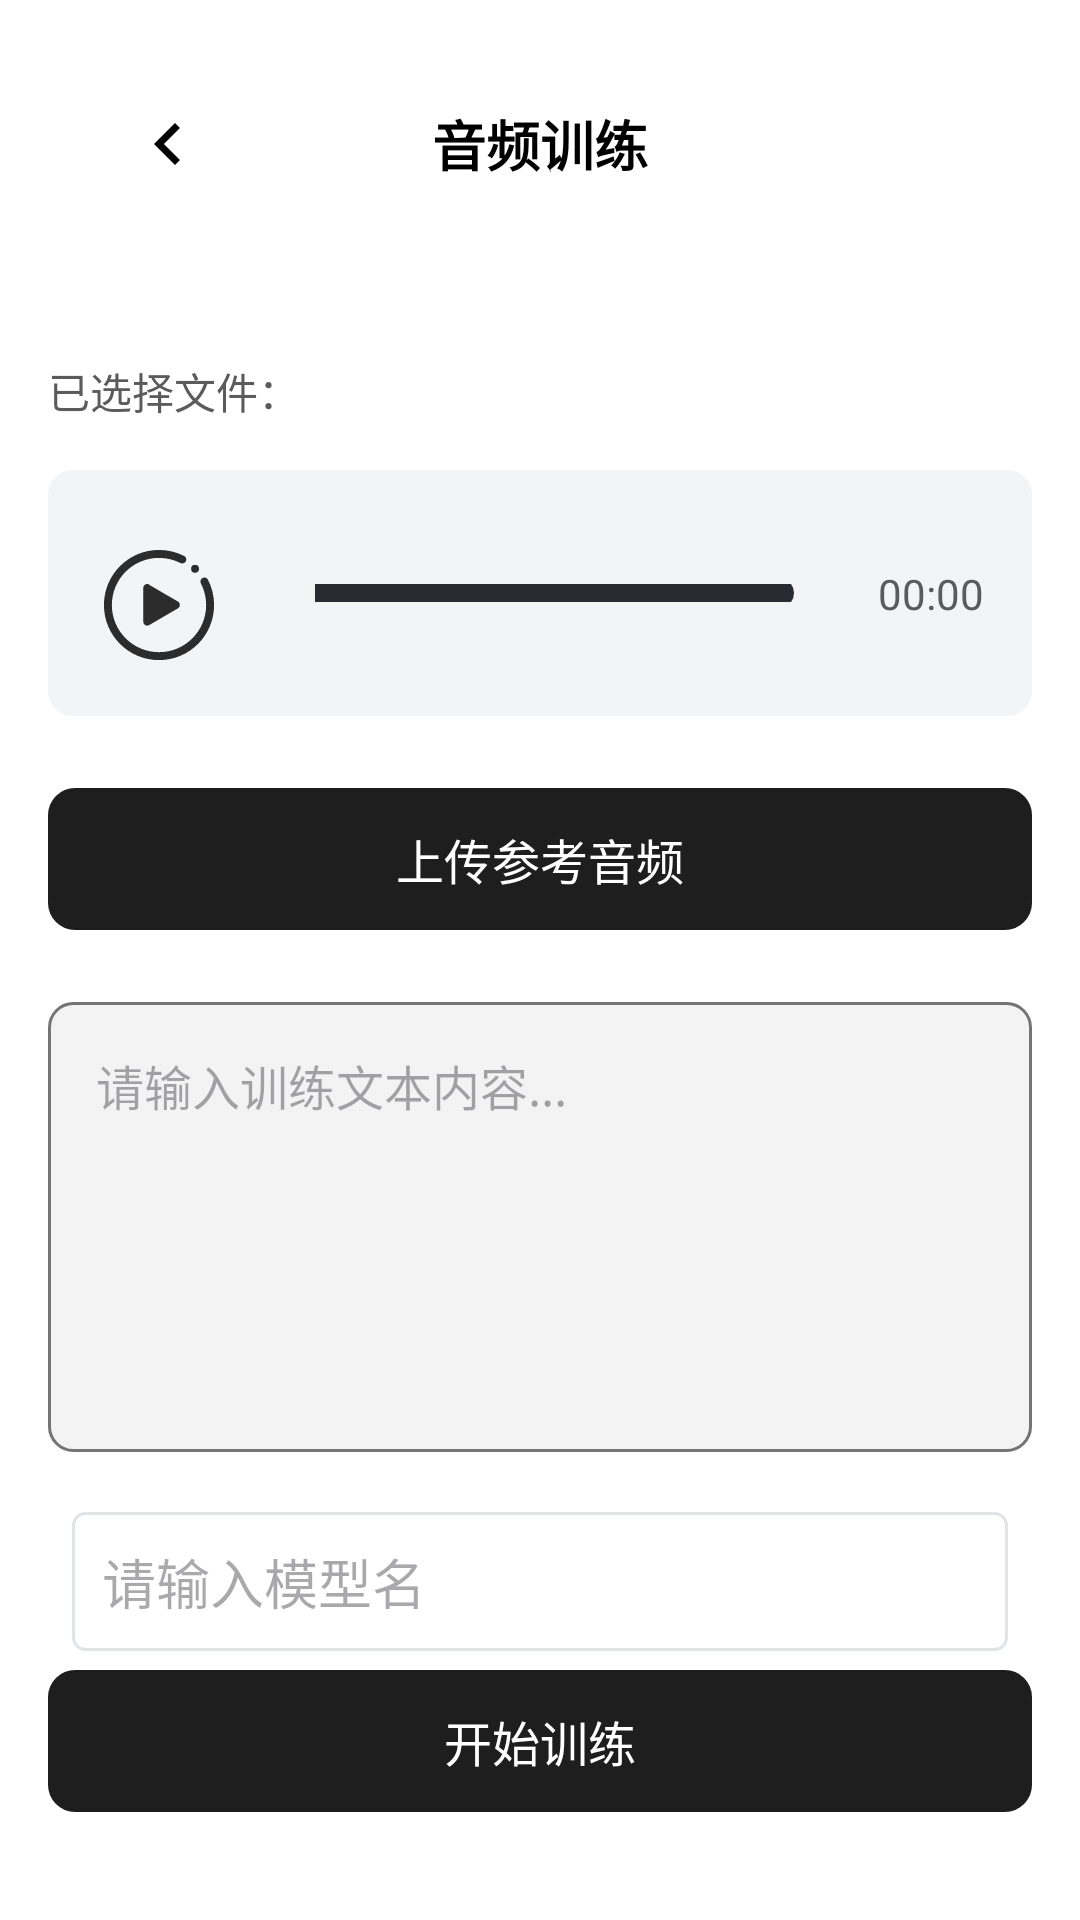

Screen size 1080x1920. Icon name, then its center in pixels as [x,y]:
Back: [167,144]
播放/暂停: [159,605]
